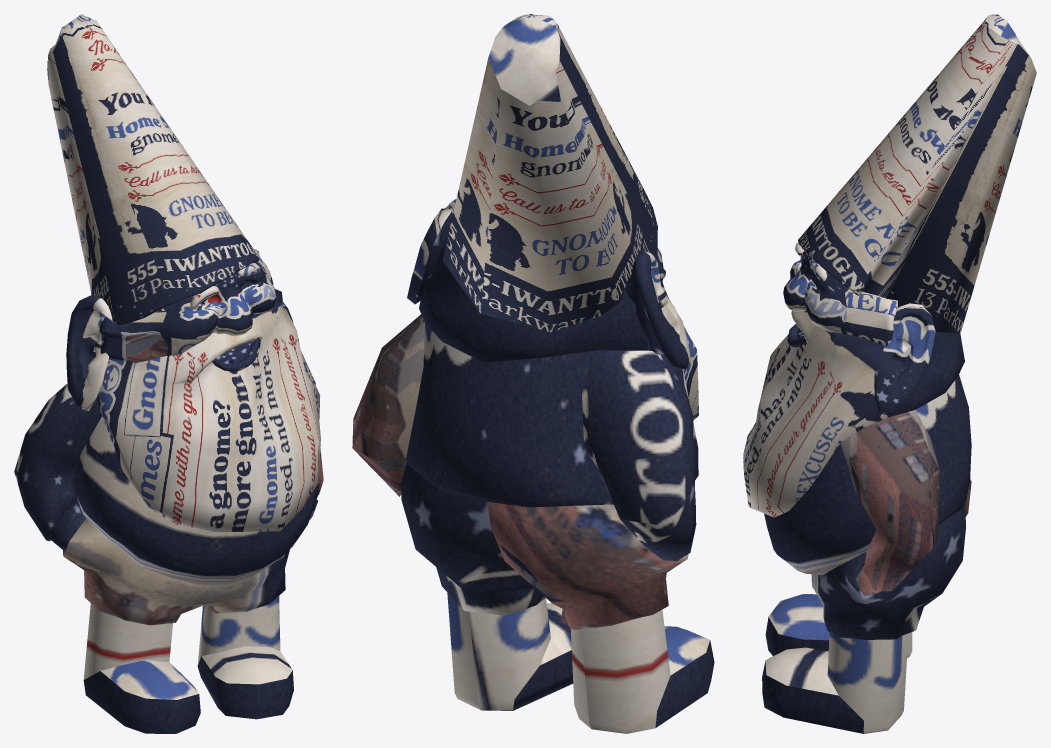
The model's file is DCGnomeChompski.fbx.
The picture shows the model from 3 angles, left to right: view 1: azimuth 30°, elevation 25°; view 2: azimuth 150°, elevation 25°; view 3: azimuth 270°, elevation 25°; orthographic projection. The views are drawn at different scales.
Parts seen in each view (by area): view 1: v_Gnome; view 2: v_Gnome; view 3: v_Gnome.
Boxes of the visible parts, x1,y1,x2,y2 form: v_Gnome: (14, 14, 323, 733); v_Gnome: (352, 14, 714, 733); v_Gnome: (743, 14, 1036, 733).
Bounding box in the file's own units: 1610 × 3413 × 1390.
